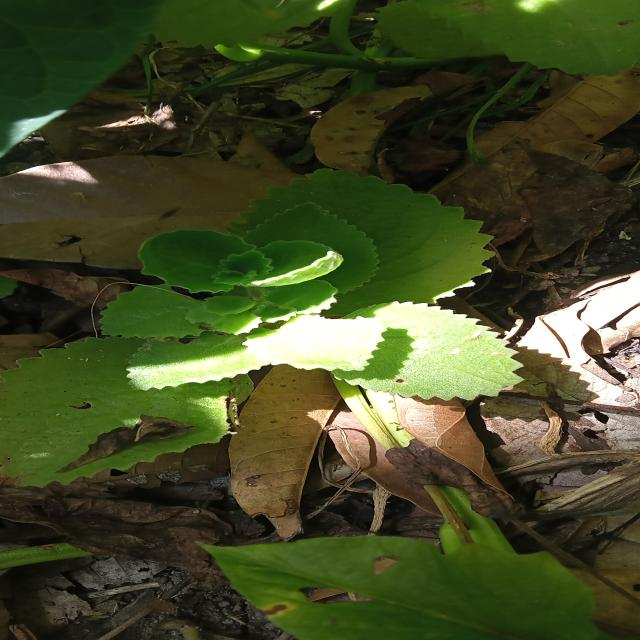Oregano: (138, 217, 414, 348)
